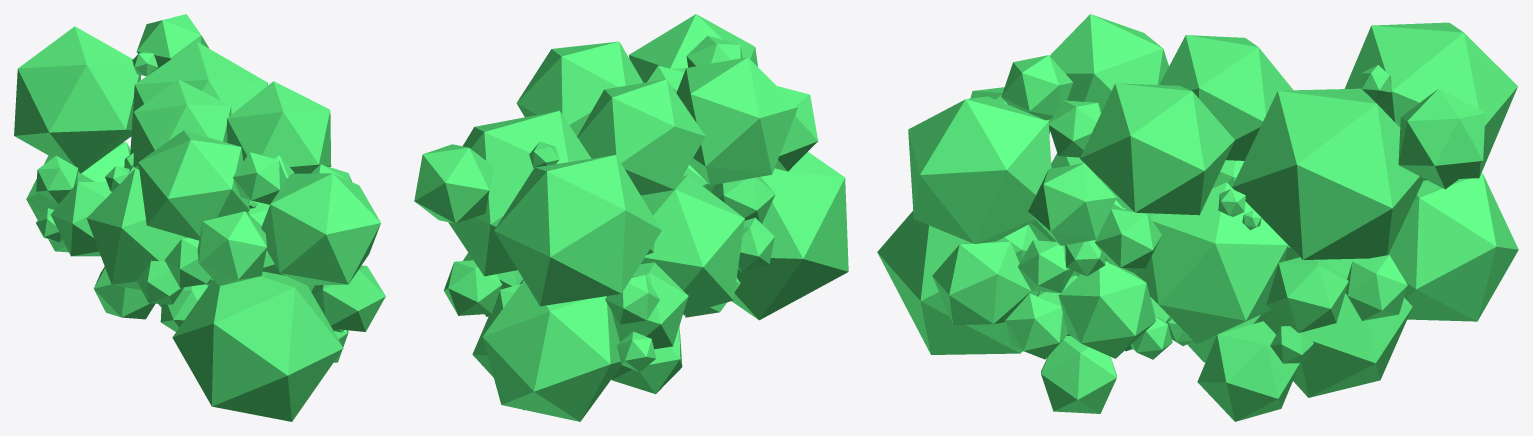
File: Bush1.fbx
3 renders of one model, left to right at view 1: azimuth 30°, elevation 25°; view 2: azimuth 150°, elevation 25°; view 3: azimuth 270°, elevation 25°, orthographic. The views are drawn at different scales.
Visible parts, largest first — view 1: Platonic_46, Platonic_68, Platonic_66, Platonic_70, Platonic_4, Platonic_60, Platonic_72, Platonic_0, Platonic_1_59, Platonic_36, Platonic_54, Platonic_8 (+11 smaller); view 2: Platonic_68, Platonic_10, Platonic_46, Platonic_70, Platonic_72, Platonic_60, Platonic_0, Platonic_4, Platonic_8, Platonic_66, Platonic_54, Platonic_1_69 (+11 smaller); view 3: Platonic_0, Platonic_66, Platonic_4, Platonic_14, Platonic_10, Platonic_68, Platonic_46, Platonic_72, Platonic_22, Platonic_70, Platonic_28, Platonic_8 (+17 smaller).
Boxes of the visible parts, x1=… form: Platonic_46: x1=172, y1=271, x2=343, y2=421; Platonic_68: x1=14, y1=26, x2=140, y2=173; Platonic_66: x1=261, y1=173, x2=380, y2=285; Platonic_70: x1=138, y1=130, x2=249, y2=240; Platonic_4: x1=227, y1=81, x2=331, y2=173; Platonic_60: x1=86, y1=168, x2=188, y2=289; Platonic_72: x1=133, y1=79, x2=231, y2=169; Platonic_0: x1=130, y1=42, x2=267, y2=154; Platonic_1_59: x1=197, y1=211, x2=266, y2=285; Platonic_36: x1=311, y1=265, x2=385, y2=331; Platonic_54: x1=50, y1=181, x2=111, y2=256; Platonic_8: x1=136, y1=14, x2=209, y2=69; Platonic_68: x1=494, y1=155, x2=661, y2=306; Platonic_10: x1=482, y1=280, x2=621, y2=421; Platonic_46: x1=731, y1=152, x2=848, y2=320; Platonic_70: x1=676, y1=57, x2=798, y2=185; Platonic_72: x1=577, y1=79, x2=705, y2=195; Platonic_60: x1=640, y1=175, x2=744, y2=314; Platonic_0: x1=448, y1=110, x2=591, y2=276; Platonic_4: x1=516, y1=41, x2=643, y2=136; Platonic_8: x1=414, y1=144, x2=493, y2=223; Platonic_66: x1=629, y1=14, x2=757, y2=82; Platonic_54: x1=611, y1=262, x2=688, y2=349; Platonic_1_69: x1=443, y1=260, x2=502, y2=315; Platonic_0: x1=1232, y1=88, x2=1423, y2=259; Platonic_66: x1=908, y1=96, x2=1051, y2=243; Platonic_4: x1=1080, y1=83, x2=1234, y2=215; Platonic_14: x1=1136, y1=182, x2=1287, y2=343; Platonic_10: x1=1388, y1=173, x2=1518, y2=321; Platonic_68: x1=1344, y1=22, x2=1517, y2=180; Platonic_46: x1=877, y1=211, x2=1038, y2=354; Platonic_72: x1=1159, y1=35, x2=1293, y2=160; Platonic_22: x1=1257, y1=258, x2=1412, y2=397; Platonic_70: x1=1050, y1=14, x2=1168, y2=112; Platonic_28: x1=1197, y1=321, x2=1300, y2=421; Platonic_8: x1=1398, y1=88, x2=1485, y2=189.
Bounding box in the file's own units: 51.03 × 62.77 × 115.
